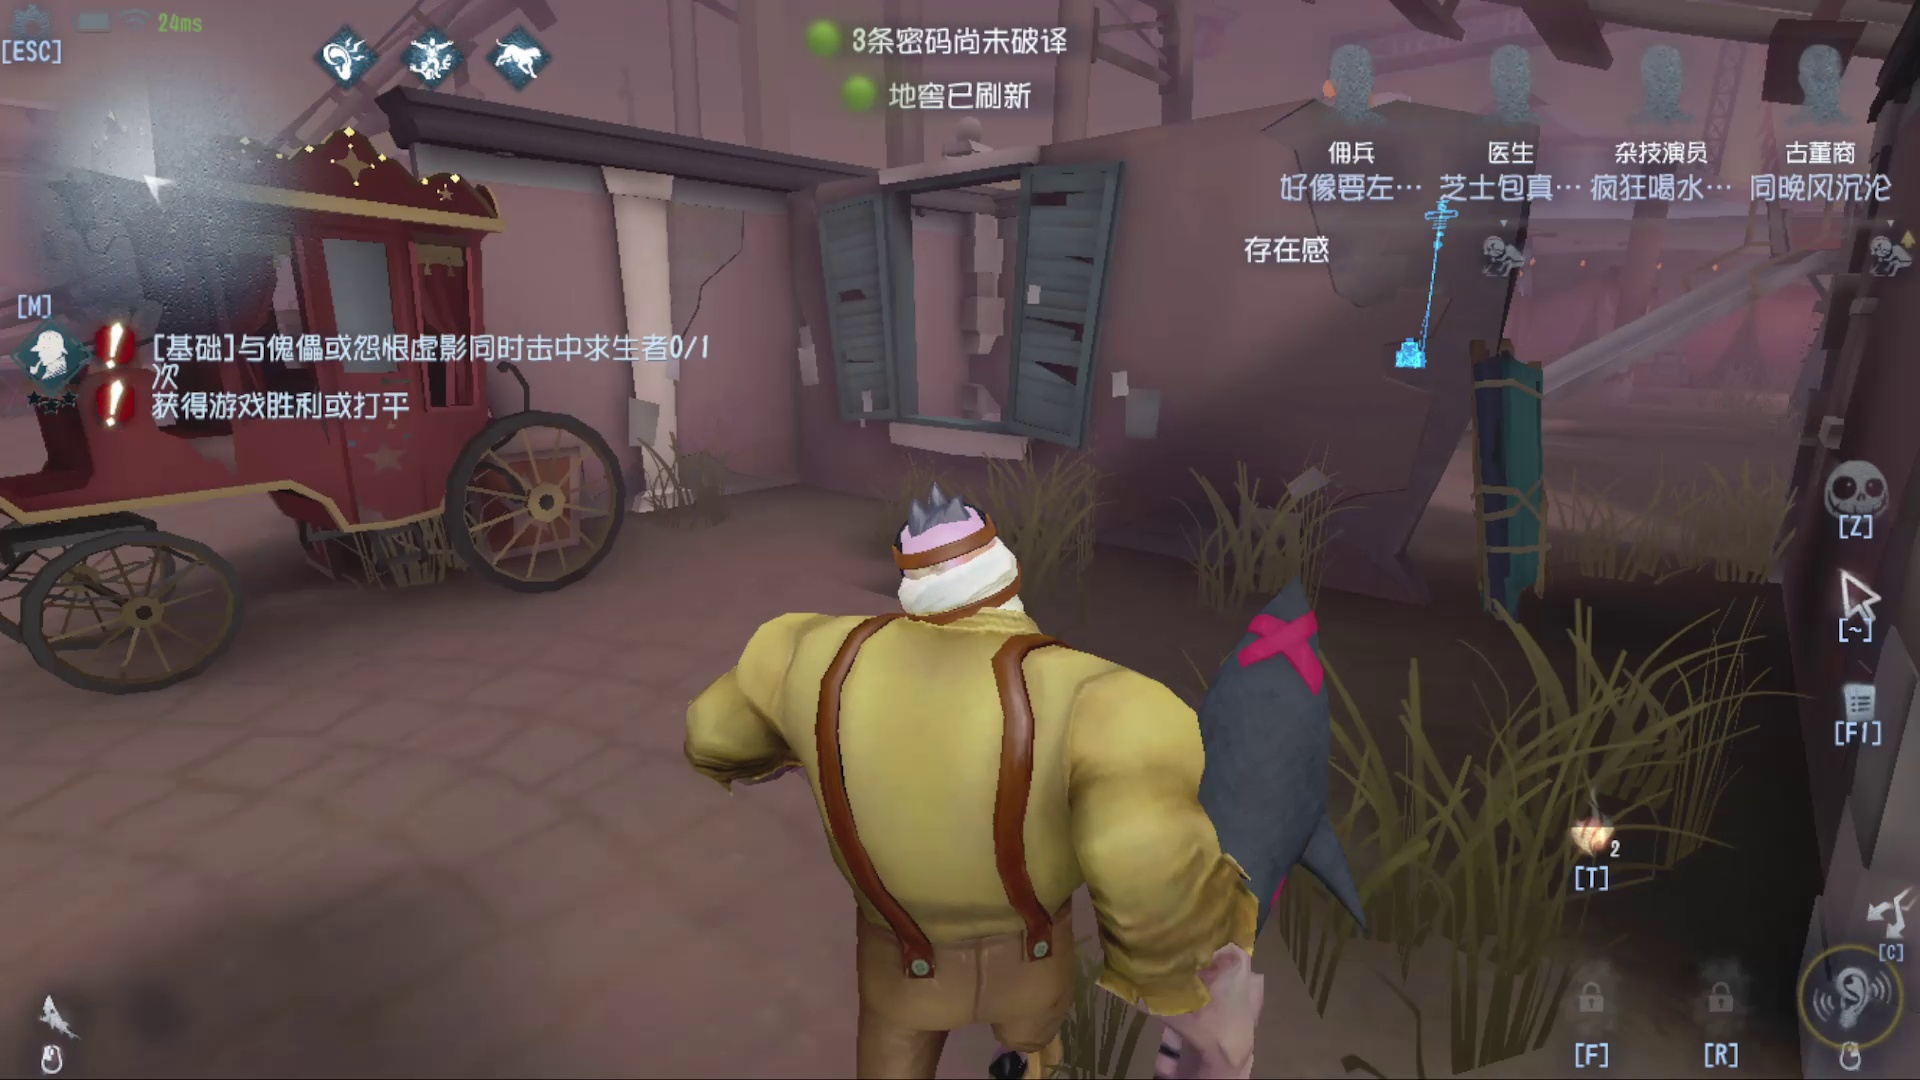密码机: (1383, 182, 1462, 393)
木板: (1452, 328, 1592, 636)
